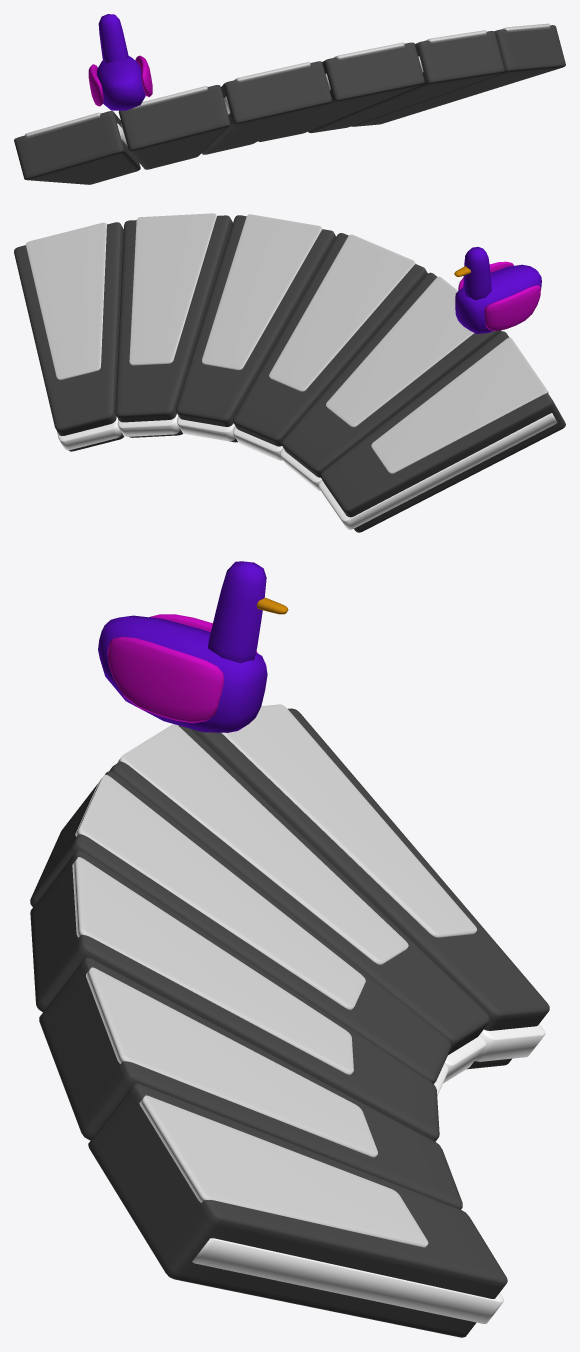
Rendered from InstrumentFromUnity.fbx.
3 views of the same model, one above another, from view 1: azimuth 30°, elevation 25°; view 2: azimuth 150°, elevation 25°; view 3: azimuth 270°, elevation 25° (orthographic). The views are drawn at different scales.
Parts seen in each view (by area): view 1: KeyShell_08_5, KeyShell_08_3, KeyShell_08_4, KeyShell_08_2, KeyShell_08_1, KeyShell_08, Body, Head, Wings, KeyGfx_08_5, KeyGfx_08_3, KeyGfx_08_4 (+3 smaller); view 2: KeyShell_08_5, KeyGfx_08_5, KeyGfx_08_2, KeyGfx_08_3, KeyGfx_08_1, KeyGfx_08, KeyGfx_08_4, KeyShell_08_1, KeyShell_08, KeyShell_08_2, KeyShell_08_3, KeyShell_08_4 (+9 smaller); view 3: KeyShell_08, KeyShell_08_1, KeyShell_08_2, KeyGfx_08, KeyGfx_08_1, KeyGfx_08_2, KeyGfx_08_3, KeyGfx_08_4, KeyGfx_08_5, KeyShell_08_5, KeyShell_08_3, KeyShell_08_4 (+5 smaller).
Part boxes in pixels (left/top/right/bottom): KeyShell_08_5: left=14, top=111, right=140, bottom=184; KeyShell_08_3: left=201, top=61, right=332, bottom=154; KeyShell_08_4: left=118, top=85, right=230, bottom=169; KeyShell_08_2: left=258, top=42, right=424, bottom=141; KeyShell_08_1: left=308, top=31, right=504, bottom=133; KeyShell_08: left=351, top=25, right=565, bottom=126; Body: left=97, top=55, right=145, bottom=110; Head: left=98, top=14, right=128, bottom=62; Wings: left=88, top=55, right=152, bottom=106; KeyGfx_08_5: left=25, top=112, right=100, bottom=138; KeyGfx_08_3: left=234, top=62, right=310, bottom=82; KeyGfx_08_4: left=132, top=86, right=207, bottom=109; KeyShell_08_5: left=320, top=331, right=565, bottom=532; KeyGfx_08_5: left=371, top=337, right=548, bottom=473; KeyGfx_08_2: left=202, top=214, right=322, bottom=370; KeyGfx_08_3: left=269, top=234, right=415, bottom=391; KeyGfx_08_1: left=129, top=213, right=216, bottom=365; KeyGfx_08: left=26, top=222, right=106, bottom=379; KeyGfx_08_4: left=326, top=276, right=473, bottom=427; KeyShell_08_1: left=115, top=215, right=232, bottom=437; KeyShell_08: left=14, top=222, right=124, bottom=451; KeyShell_08_2: left=176, top=215, right=336, bottom=442; KeyShell_08_3: left=233, top=233, right=427, bottom=460; KeyShell_08_4: left=281, top=272, right=501, bottom=477; KeyShell_08: left=88, top=1083, right=507, bottom=1337; KeyShell_08_1: left=39, top=957, right=462, bottom=1209; KeyShell_08_2: left=30, top=850, right=439, bottom=1141; KeyGfx_08: left=139, top=1095, right=428, bottom=1247; KeyGfx_08_1: left=86, top=967, right=377, bottom=1157; KeyGfx_08_2: left=72, top=857, right=353, bottom=1074; KeyGfx_08_3: left=75, top=774, right=365, bottom=1009; KeyGfx_08_4: left=117, top=724, right=408, bottom=964; KeyGfx_08_5: left=221, top=704, right=476, bottom=937; KeyShell_08_5: left=191, top=708, right=549, bottom=1069; KeyShell_08_3: left=30, top=771, right=451, bottom=1084; KeyShell_08_4: left=109, top=725, right=489, bottom=1054.
Size of the model in its own units: 87.81 by 36.63 by 37.8.
